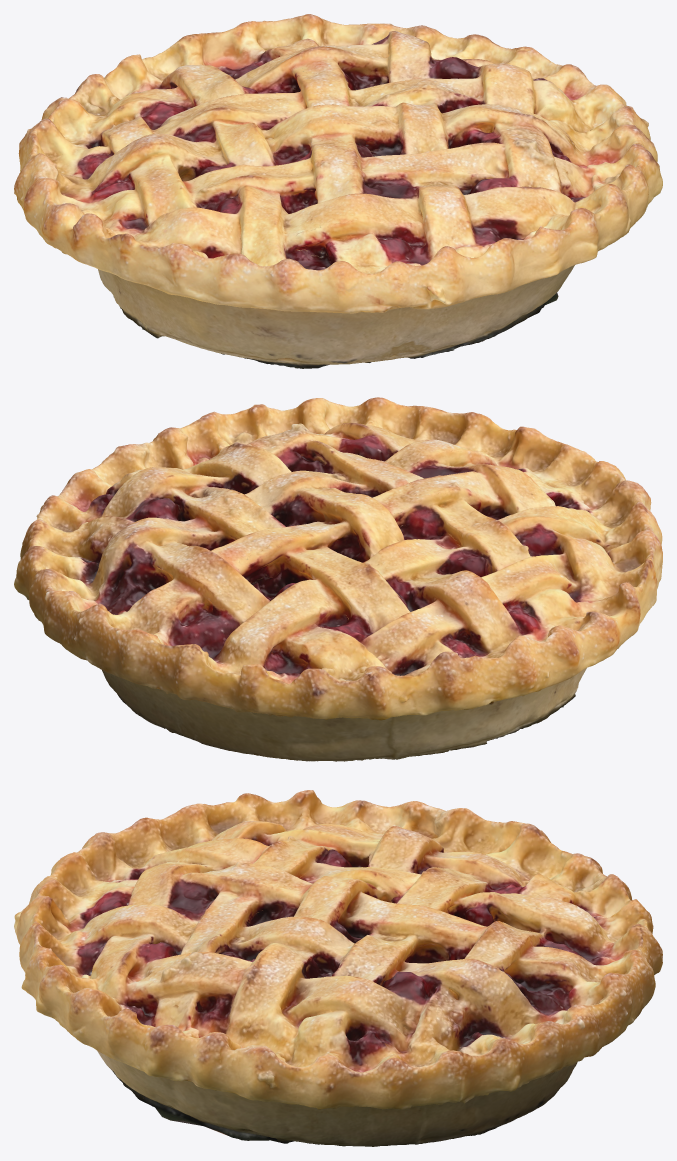
File: cherrypie.glb
3 views of the same model, one above another, from view 1: azimuth 30°, elevation 25°; view 2: azimuth 150°, elevation 25°; view 3: azimuth 270°, elevation 25° (orthographic).
Visible parts, largest first — view 1: Object_3, Object_2, Object_4; view 2: Object_2, Object_3, Object_4; view 3: Object_2, Object_4, Object_3.
Part boxes in pixels (left/top/right/bottom): Object_3: left=16, top=58, right=605, bottom=368; Object_2: left=14, top=14, right=648, bottom=247; Object_4: left=198, top=20, right=662, bottom=339; Object_2: left=14, top=452, right=639, bottom=719; Object_3: left=119, top=397, right=662, bottom=761; Object_4: left=21, top=398, right=490, bottom=749; Object_2: left=202, top=800, right=662, bottom=1109; Object_4: left=21, top=893, right=661, bottom=1146; Object_3: left=14, top=790, right=658, bottom=1146.
Size of the model in its own units: 0.2075 by 0.0581 by 0.2051.
Materials: 1 (1 with a texture image).
